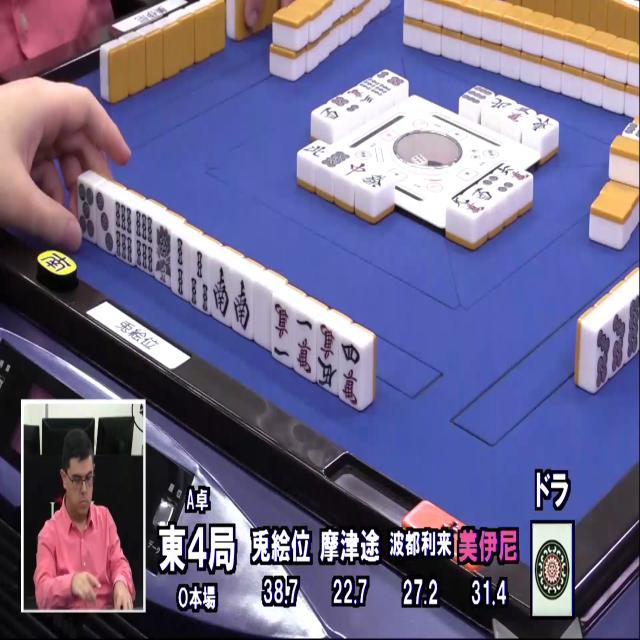bai: (252, 286, 270, 346)
m1: (292, 313, 320, 380), (270, 301, 294, 365)
m4: (337, 337, 369, 410)
m5: (313, 323, 339, 393)
s1: (155, 223, 172, 283)
s2: (171, 236, 190, 301)
s3: (188, 247, 211, 315)
s6: (113, 199, 136, 265), (133, 211, 155, 276)
south: (232, 274, 254, 336), (208, 261, 229, 323)
t1: (533, 524, 571, 616)
t3: (94, 188, 114, 254)
t5: (78, 179, 98, 242)
t7: (607, 309, 630, 376), (592, 325, 613, 391)
t8: (625, 292, 640, 361)
